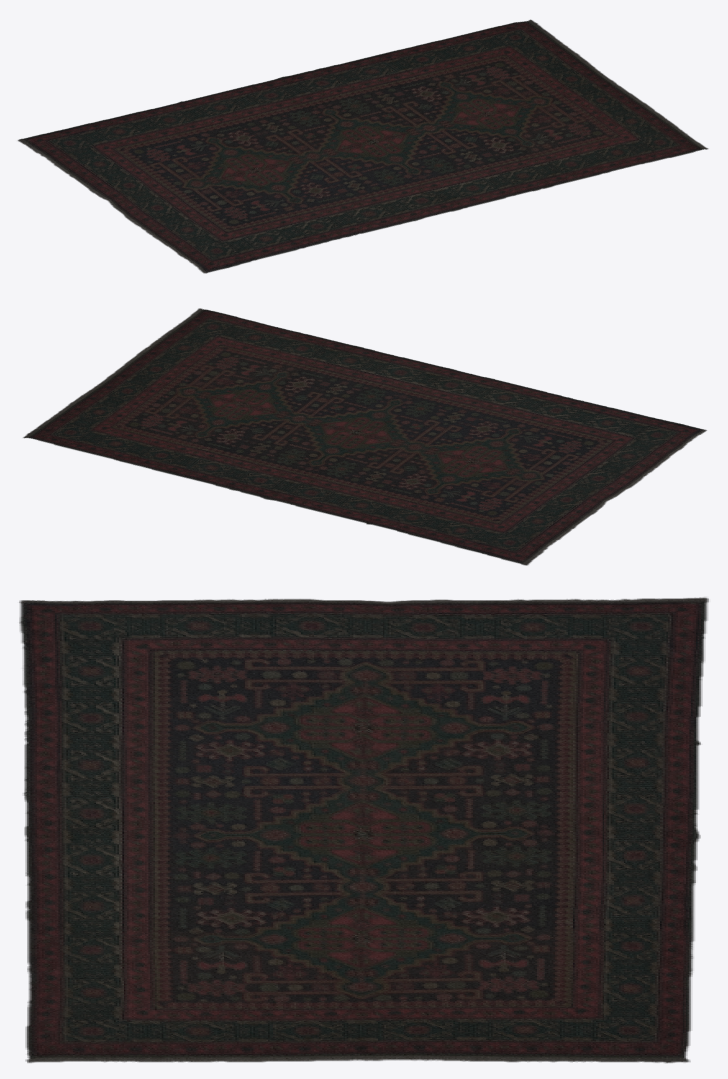
File: carpet_1.glb
3 views of the same model, one above another, from view 1: azimuth 30°, elevation 25°; view 2: azimuth 150°, elevation 25°; view 3: azimuth 270°, elevation 25° (orthographic). The views are drawn at different scales.
Parts seen in each view (by area): view 1: carpet_1; view 2: carpet_1; view 3: carpet_1.
Boxes of the visible parts, x1,y1,x2,y2 form: carpet_1: (17,19,708,273); carpet_1: (23,308,706,565); carpet_1: (19,597,708,1063).
Size of the model in its own units: 2.69 by 0.0085 by 1.7.
1 material, 1 textured.
